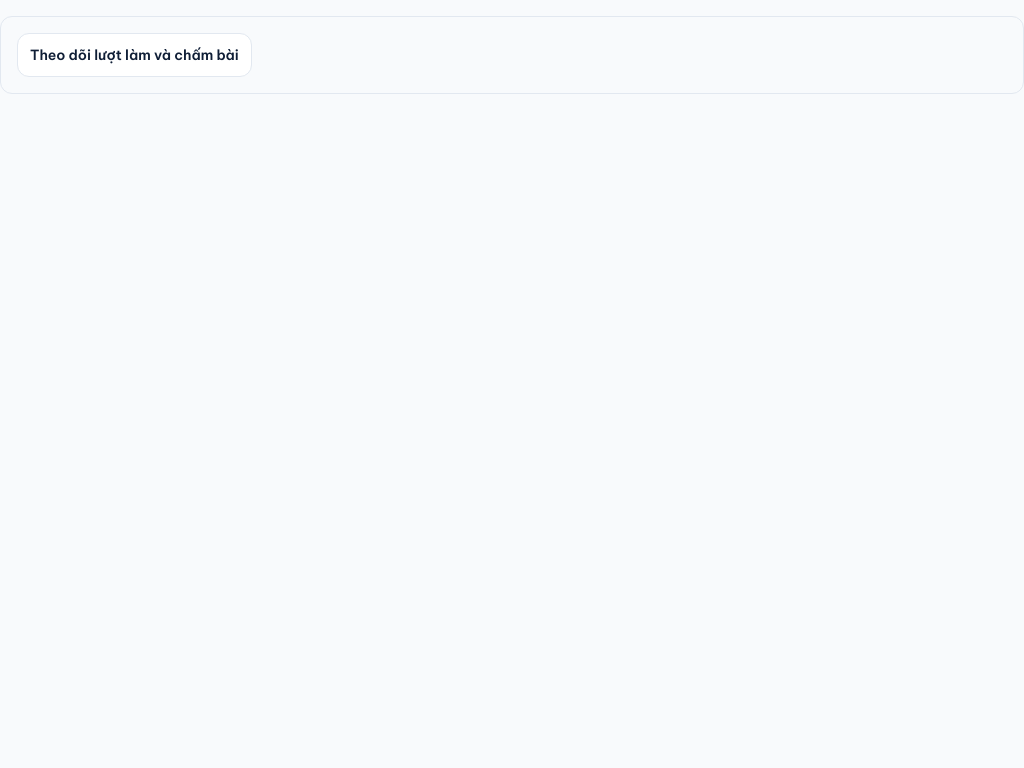
Test: teacher attempt review › shows a student's essay as readable text for grading
What coordinates should you click on to do the following:
click the button "Theo dõi lượt làm và chấm bài"
I would click on:
 (134, 55)
Its box is top-left (17, 33), bottom-right (252, 77).
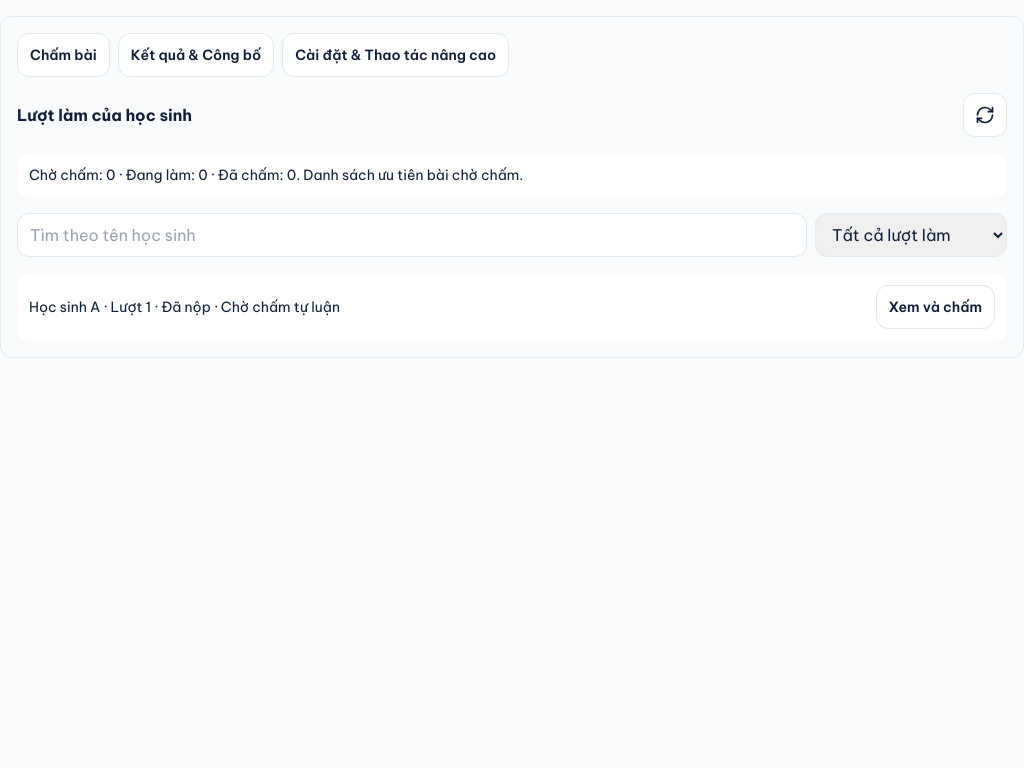
What coordinates should you click on to do the following:
click the button "Xem và chấm"
I would click on:
 (935, 307)
Its box is top-left (876, 285), bottom-right (995, 329).
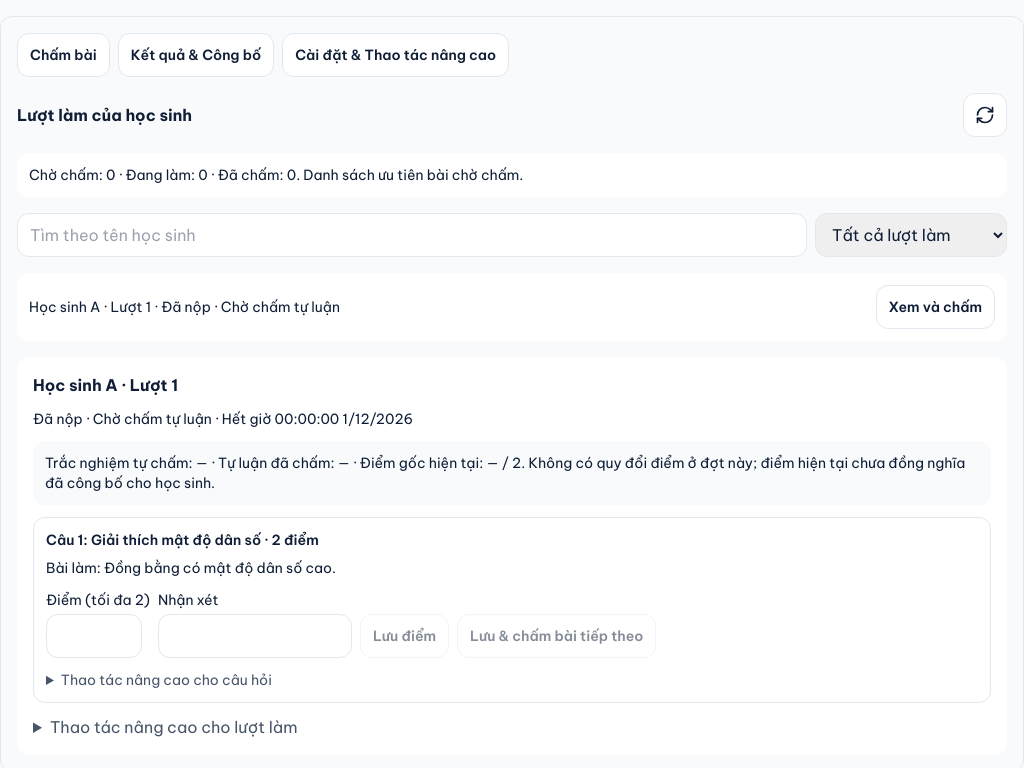
Expected: the text "Học sinh A" is shown, top-left (29, 298), bottom-right (100, 316)
Expected: the text "Bài làm: Đồng bằng có mật độ dân số cao." is shown, top-left (46, 559), bottom-right (336, 577)
